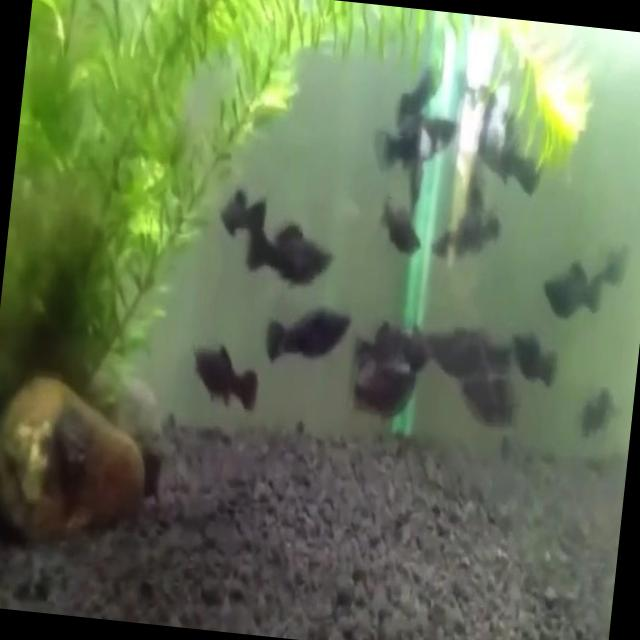PlatyFish: (178, 330, 270, 422), (242, 214, 341, 296), (254, 295, 354, 370), (369, 184, 433, 265), (212, 172, 274, 243)
